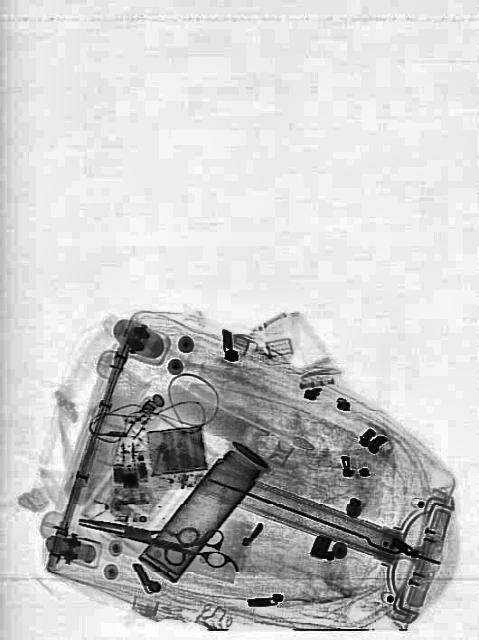Scissors: (79, 496, 200, 570), (124, 516, 228, 568)
